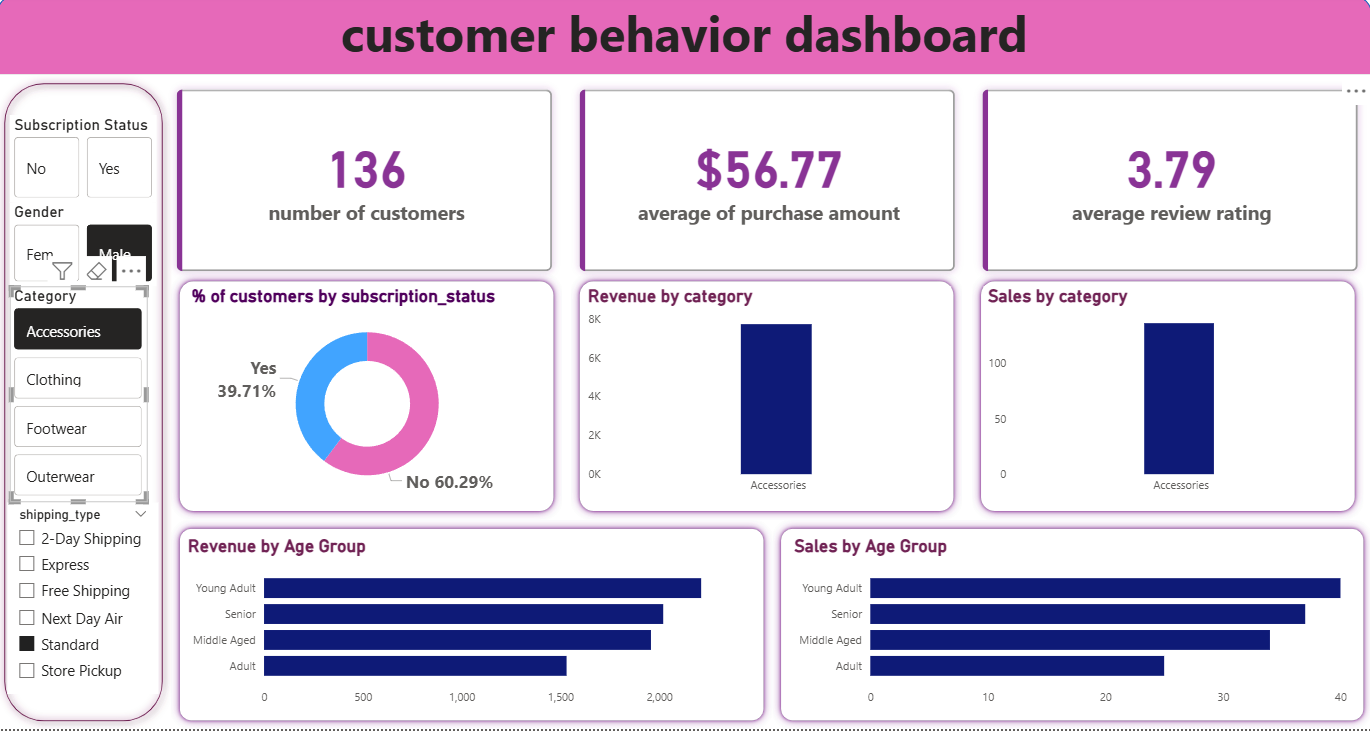

This screenshot's page, from the dashboard's own definition file:
{"tool":"powerbi","page":{"name":"Page 1","canvas":[1500,800],"ordinal":0},"visuals":[{"type":"cardVisual","fields":{"Data":["sahil_data customer_shopping.number of customers","sahil_data customer_shopping.average of purchase amount","sahil_data customer_shopping.average review rating"]},"box":[181.2,87.2,1319,230.3],"z":0},{"type":"shape","box":[0,0,1500.3,87.2],"z":1000},{"type":"textbox","box":[0,0,1500.3,87.2],"z":2000},{"type":"shape","box":[190.8,302.8,426.4,269.6],"z":3000},{"type":"donutChart","title":"% of customers by subscription_status","fields":{"Category":["sahil_data customer_shopping.subscription_status"],"Y":["sahil_data customer_shopping.customer_id"]},"box":[208.8,318,392.7,235.1],"z":4000},{"type":"shape","box":[627.5,302.8,426.4,269.6],"z":5000},{"type":"shape","box":[1064.2,302.8,426.4,269.6],"z":6000},{"type":"clusteredColumnChart","title":"Revenue by category","fields":{"Y":["sahil_data customer_shopping.purchase_amount"],"Category":["sahil_data customer_shopping.category"]},"box":[640.2,318,401,235.1],"z":7000},{"type":"clusteredColumnChart","title":"Sales by category","fields":{"Category":["sahil_data customer_shopping.category"],"Y":["sahil_data customer_shopping.customer_id"]},"box":[1077.2,318,401,235.1],"z":8000},{"type":"shape","box":[0,87.1,190.8,713.5],"z":9000},{"type":"advancedSlicerVisual","title":"Subscription Status","fields":{"Values":["sahil_data customer_shopping.subscription_status"]},"box":[15.2,131.4,160.4,95.4],"z":10000},{"type":"advancedSlicerVisual","title":"Gender","fields":{"Values":["sahil_data customer_shopping.gender"]},"box":[15.2,226.8,160.4,91.3],"z":11000},{"type":"advancedSlicerVisual","title":"Category","fields":{"Values":["sahil_data customer_shopping.category"]},"box":[15.2,318,149.3,235.1],"z":12000},{"type":"slicer","fields":{"Values":["sahil_data customer_shopping.shipping_type"]},"box":[12.4,553.1,164.5,208.8],"z":13000},{"type":"shape","box":[190.8,572.5,655.4,228.2],"z":13002},{"type":"clusteredBarChart","title":"Revenue by Age Group","fields":{"Y":["sahil_data customer_shopping.purchase_amount"],"Category":["sahil_data customer_shopping.age_group"]},"box":[204.6,590.4,625,193.6],"z":13003},{"type":"shape","box":[846.2,572.5,654,228.2],"z":13004},{"type":"clusteredBarChart","title":"Sales by Age Group","fields":{"Y":["sahil_data customer_shopping.customer_id"],"Category":["sahil_data customer_shopping.age_group"]},"box":[865.6,590.4,612.6,193.6],"z":13005}]}

Visuals, with their boxes in screenshot pixels (x1, y1, x2, y2):
cardVisual - sahil_data customer_shopping.number of customers x sahil_data customer_shopping.average of purchase amount: [x1=166, y1=71, x2=1369, y2=286]
shape: [x1=0, y1=0, x2=1369, y2=71]
textbox: [x1=0, y1=0, x2=1369, y2=71]
shape: [x1=175, y1=272, x2=573, y2=524]
"% of customers by subscription_status" donutChart: [x1=191, y1=286, x2=558, y2=506]
shape: [x1=582, y1=272, x2=981, y2=524]
shape: [x1=990, y1=272, x2=1369, y2=524]
"Revenue by category" clusteredColumnChart: [x1=594, y1=286, x2=969, y2=506]
"Sales by category" clusteredColumnChart: [x1=1002, y1=286, x2=1369, y2=506]
shape: [x1=0, y1=71, x2=175, y2=735]
"Subscription Status" advancedSlicerVisual: [x1=11, y1=112, x2=160, y2=201]
"Gender" advancedSlicerVisual: [x1=11, y1=201, x2=160, y2=286]
"Category" advancedSlicerVisual: [x1=11, y1=286, x2=150, y2=506]
slicer - sahil_data customer_shopping.shipping_type: [x1=8, y1=506, x2=162, y2=701]
shape: [x1=175, y1=524, x2=787, y2=735]
"Revenue by Age Group" clusteredBarChart: [x1=187, y1=541, x2=771, y2=721]
shape: [x1=787, y1=524, x2=1369, y2=735]
"Sales by Age Group" clusteredBarChart: [x1=805, y1=541, x2=1369, y2=721]
